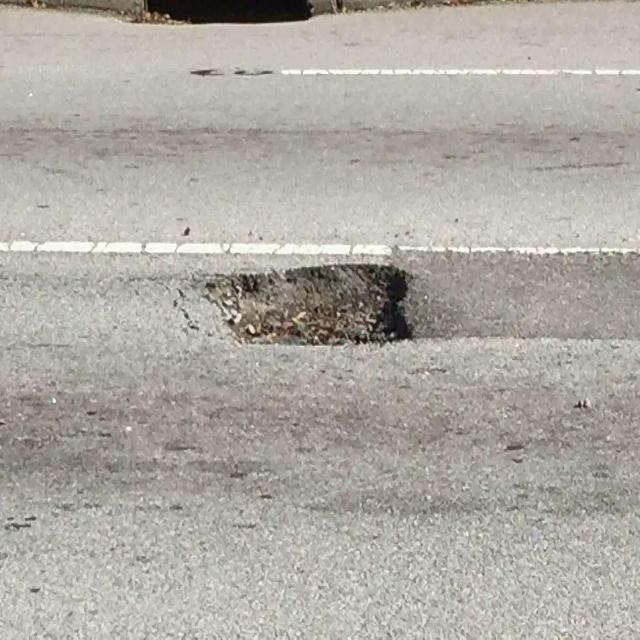pothole: (206, 264, 414, 346)
